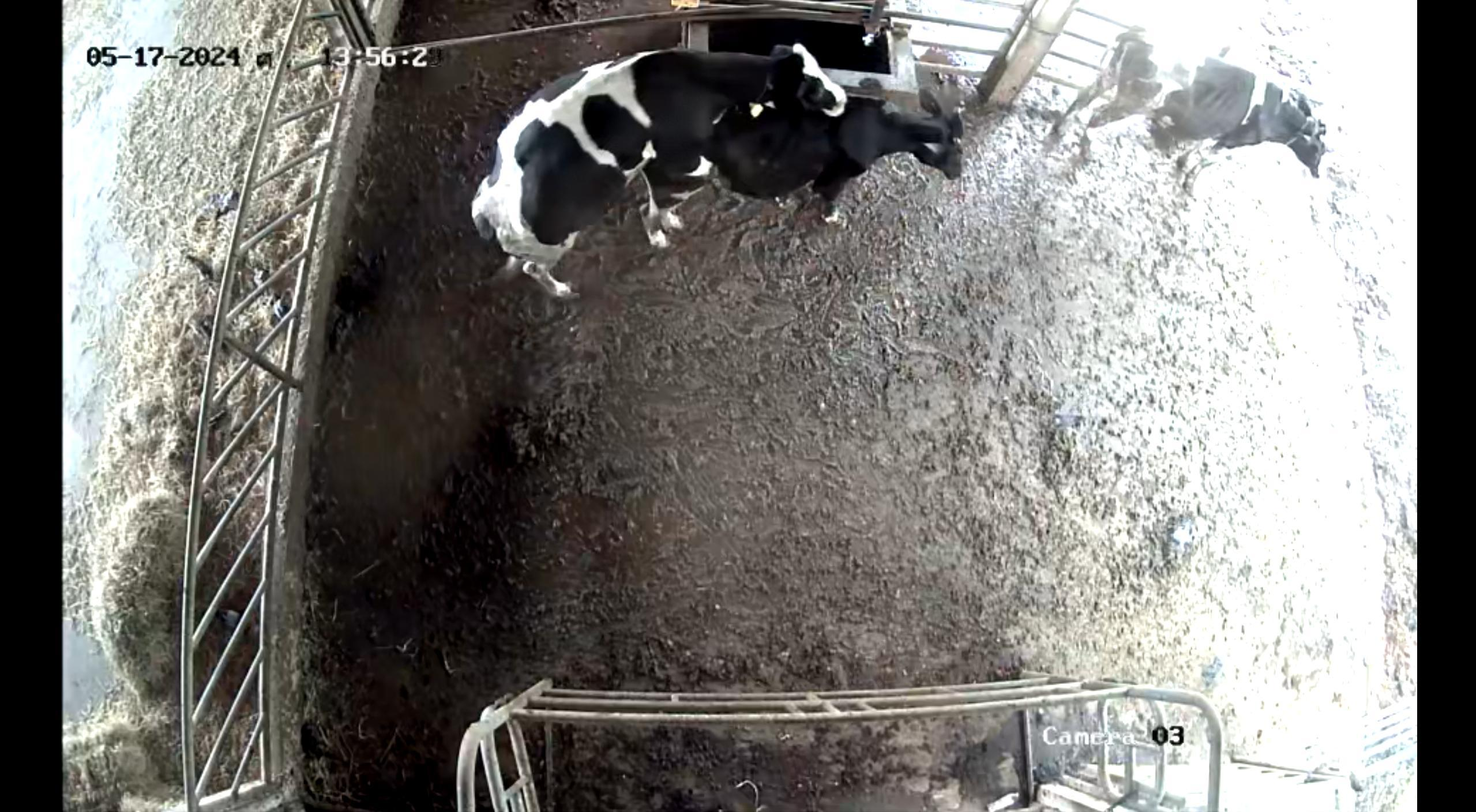ride: (443, 33, 842, 318)
stand: (1060, 28, 1338, 216), (716, 84, 969, 223)
